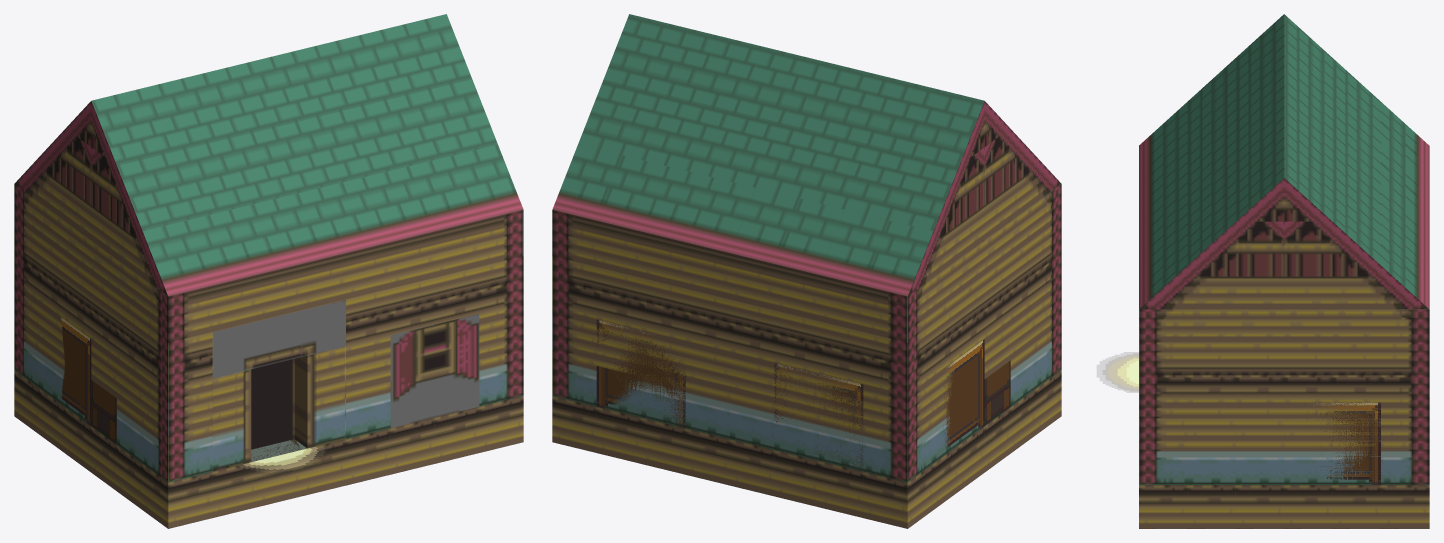
Rendered from bank.glb.
3 renders of one model, left to right at view 1: azimuth 30°, elevation 25°; view 2: azimuth 150°, elevation 25°; view 3: azimuth 270°, elevation 25°, orthographic. The views are drawn at different scales.
Visible parts, largest first — view 1: Scenario.001, Scenario.002, Scenario.003, Scenario.004, Plane.004, Plane, Plane.005; view 2: Scenario.001, Scenario.002, Scenario.003, Scenario.004, Plane.002, Plane.004, Plane.001, Plane.005; view 3: Scenario.001, Scenario.002, Scenario.003, Scenario.004, Plane.003, Plane.
Boxes of the visible parts, x1,y1,x2,y2 form: Scenario.001: (14, 14, 523, 296); Scenario.002: (14, 184, 523, 389); Scenario.003: (14, 277, 523, 482); Scenario.004: (14, 370, 523, 528); Plane.004: (61, 317, 91, 425); Plane: (236, 439, 328, 475); Plane.005: (91, 379, 116, 444); Scenario.001: (552, 14, 1061, 296); Scenario.002: (552, 184, 1061, 389); Scenario.003: (552, 277, 1061, 482); Scenario.004: (552, 370, 1061, 528); Plane.002: (596, 319, 685, 427); Plane.004: (943, 339, 984, 448); Plane.001: (774, 363, 863, 470); Plane.005: (984, 360, 1010, 425); Scenario.001: (1139, 14, 1429, 309); Scenario.002: (1139, 309, 1429, 397); Scenario.003: (1139, 397, 1429, 484); Scenario.004: (1139, 485, 1429, 528); Plane.003: (1307, 402, 1380, 484); Plane: (1097, 352, 1138, 392).
Bounding box in the file's own units: 8.01 × 8 × 7.
Materials: 6 (6 with a texture image).
